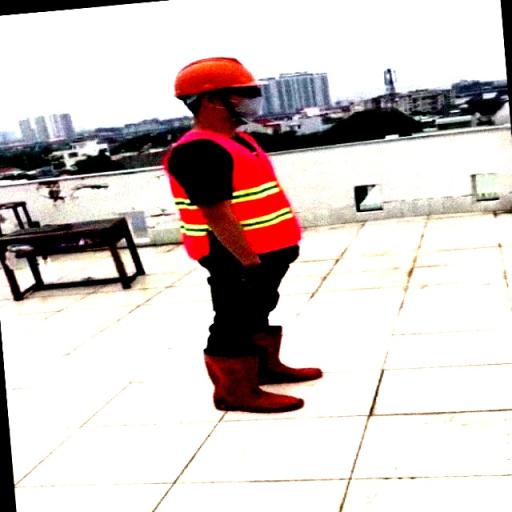Person: (115, 20, 359, 438)
boots: (192, 334, 307, 423), (234, 320, 324, 386)
helmet: (162, 52, 274, 97)
vest: (160, 119, 308, 263)
